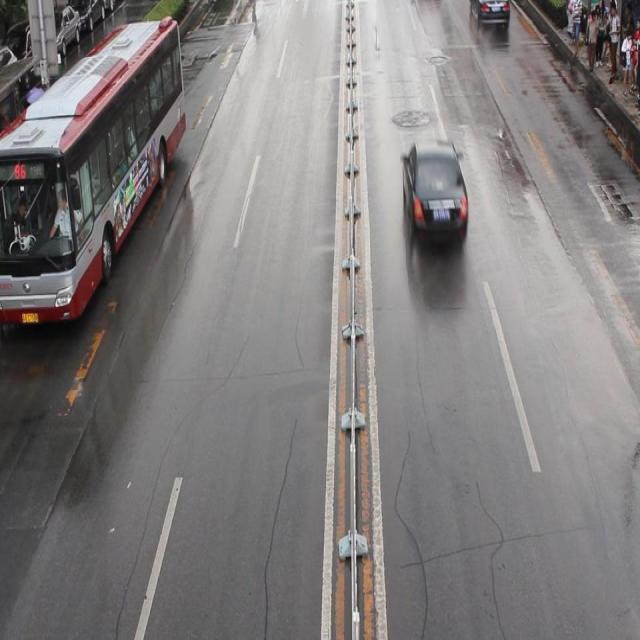car: (402, 140, 466, 239)
van: (1, 17, 186, 321)
